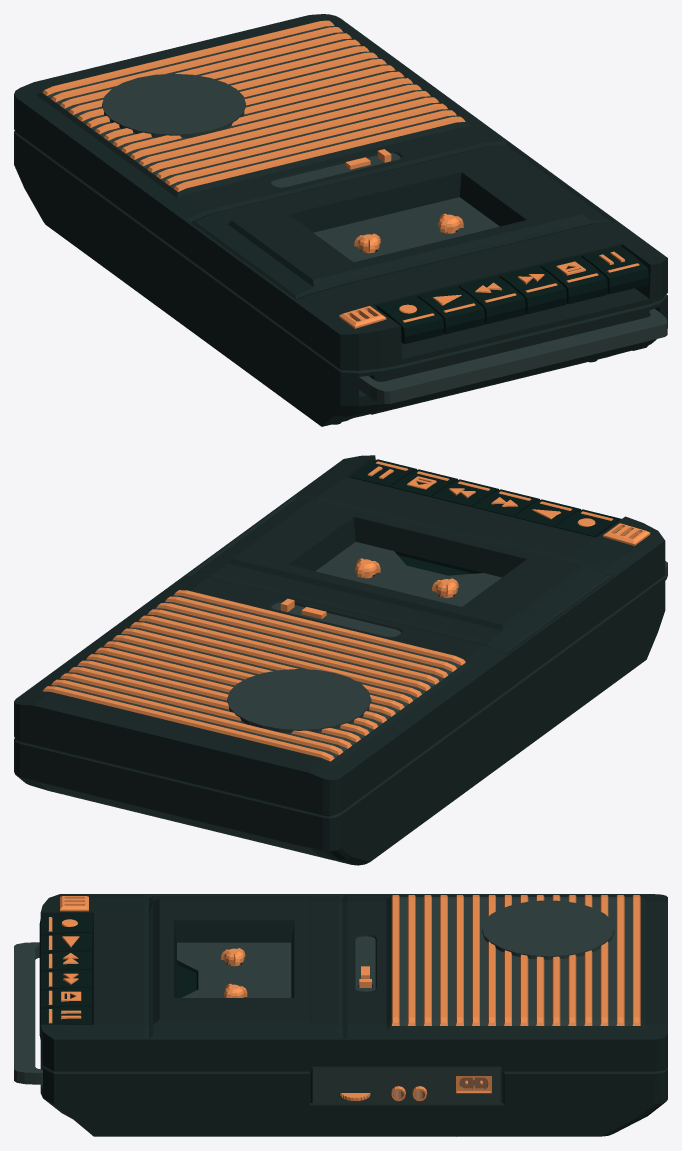
File: Recorder2.fbx
3 views of the same model, one above another, from view 1: azimuth 30°, elevation 25°; view 2: azimuth 150°, elevation 25°; view 3: azimuth 270°, elevation 25° (orthographic). The views are drawn at different scales.
Parts seen in each view (by area): view 1: Cylinder.010, Cube.006, Cylinder.001, Cylinder.011, Cube.015, Cube.013, Cube.012, Cube.014, Cube.003, Cylinder.006, Cube; view 2: Cylinder.010, Cylinder.001, Cube.004, Cylinder.011, Cube.015, Cube.012, Cube.013, Cube.014, Cube.003, Cylinder.006, Cube; view 3: Cylinder.010, Cylinder.001, Cube.006, Cylinder.011, Cube.014, Cube.015, Cube.013, Cube.003, Cube.012, Cylinder.006, Cube.
Part boxes in pixels (x1,y1,x2,y2): Cylinder.010: [14, 14, 667, 426]; Cube.006: [359, 308, 667, 403]; Cylinder.001: [102, 73, 245, 137]; Cylinder.011: [376, 295, 443, 344]; Cube.015: [458, 275, 525, 324]; Cube.013: [540, 255, 607, 304]; Cube.012: [581, 245, 648, 294]; Cube.014: [499, 265, 566, 314]; Cube.003: [417, 286, 484, 334]; Cylinder.006: [354, 213, 463, 253]; Cube: [339, 306, 386, 328]; Cylinder.010: [14, 455, 665, 865]; Cylinder.001: [227, 669, 371, 733]; Cube.004: [38, 781, 333, 860]; Cylinder.011: [555, 509, 621, 537]; Cube.015: [473, 489, 539, 517]; Cube.012: [350, 459, 416, 487]; Cube.013: [391, 469, 457, 497]; Cube.014: [432, 479, 498, 507]; Cube.003: [514, 499, 580, 527]; Cylinder.006: [355, 558, 458, 597]; Cube: [603, 523, 650, 545]; Cylinder.010: [40, 894, 667, 1136]; Cylinder.001: [482, 900, 614, 959]; Cube.006: [14, 942, 42, 1084]; Cylinder.011: [39, 914, 91, 941]; Cube.014: [39, 969, 91, 996]; Cube.015: [39, 951, 91, 977]; Cube.013: [39, 988, 91, 1014]; Cube.003: [39, 933, 91, 959]; Cube.012: [39, 1006, 91, 1039]; Cylinder.006: [220, 948, 247, 997]; Cube: [60, 896, 88, 911].
Size of the model in its own units: 113 by 40.03 by 208.
